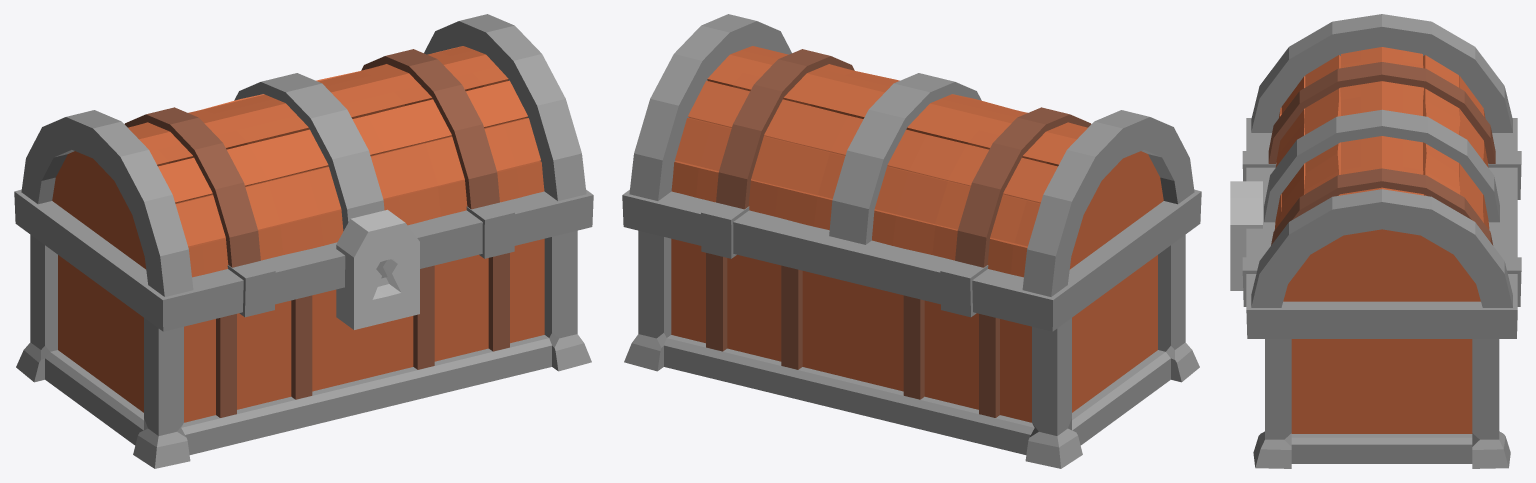
The model's file is Chest.fbx.
The picture shows the model from 3 angles, left to right: view 1: azimuth 30°, elevation 25°; view 2: azimuth 150°, elevation 25°; view 3: azimuth 270°, elevation 25°; orthographic projection. The views are drawn at different scales.
Visible parts, largest first — view 1: Cube.001, Plane.002, Cube, Cube.002, Plane, Cube.003, Cube.004, Plane.001; view 2: Plane.002, Cube.001, Cube, Cube.002, Plane, Cube.003, Plane.001; view 3: Plane.002, Cube.001, Cube, Cube.002, Plane, Plane.001, Cube.004.
Boxes of the visible parts, bbox=[...] form: Cube.001: bbox=[52, 46, 544, 277]; Plane.002: bbox=[14, 14, 593, 331]; Cube: bbox=[58, 238, 544, 422]; Cube.002: bbox=[16, 230, 591, 468]; Plane: bbox=[124, 49, 499, 267]; Cube.003: bbox=[216, 253, 509, 417]; Cube.004: bbox=[336, 209, 419, 329]; Plane.001: bbox=[234, 73, 384, 230]; Plane.002: bbox=[622, 14, 1201, 331]; Cube.001: bbox=[671, 46, 1163, 277]; Cube: bbox=[671, 238, 1157, 422]; Cube.002: bbox=[624, 230, 1199, 468]; Plane: bbox=[716, 49, 1091, 267]; Cube.003: bbox=[706, 253, 999, 417]; Plane.001: bbox=[829, 73, 981, 244]; Plane.002: bbox=[1242, 14, 1521, 338]; Cube.001: bbox=[1274, 47, 1489, 301]; Cube: bbox=[1291, 339, 1472, 433]; Cube.002: bbox=[1253, 339, 1510, 468]; Plane: bbox=[1268, 62, 1495, 245]; Plane.001: bbox=[1264, 109, 1499, 222]; Cube.004: bbox=[1230, 181, 1262, 290].
Size of the model in its own units: 448 by 280 by 281.
